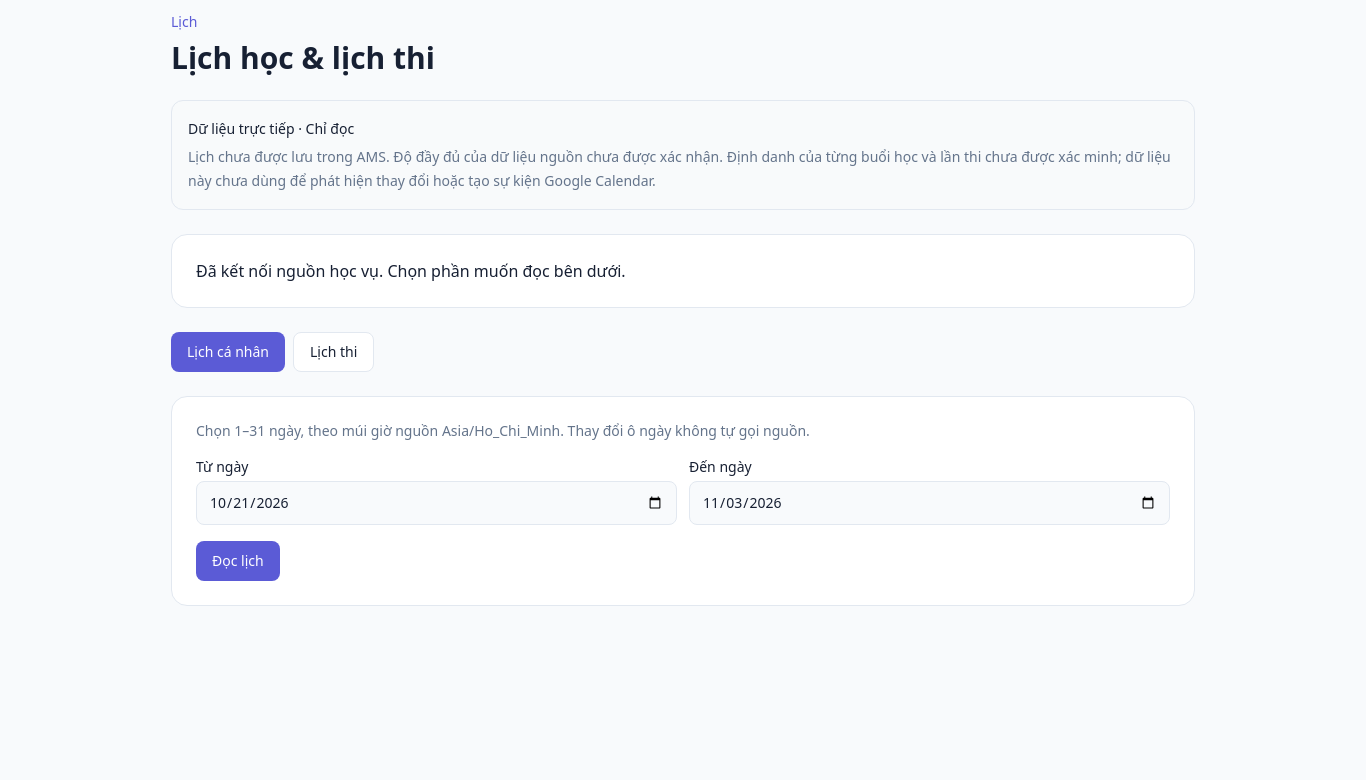
Test: Live read-only schedule › validates 31 days and waits for manual read; preserves duplicates, nulls and UNKNOWN kind
Expected: the text "Đã kết nối nguồn học vụ. Chọn phần muốn đọc bên dưới." is shown, [196,260,626,282]
Step 1. Type "2026-10-01" into the date field labelled "Từ ngày" → (436, 503), box [196,481,677,525]
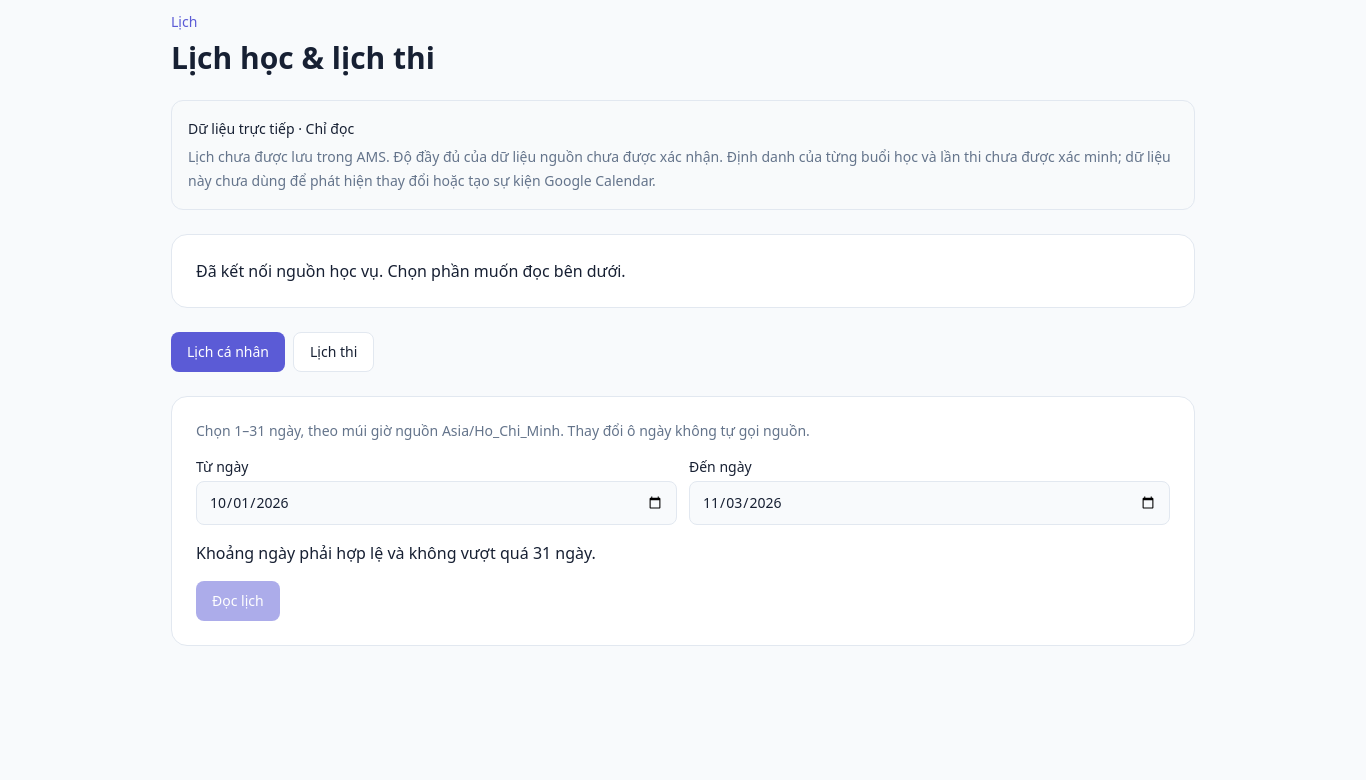
Step 2. Type "2026-10-31" into the date field labelled "Đến ngày" → (930, 503), box [689,481,1170,525]
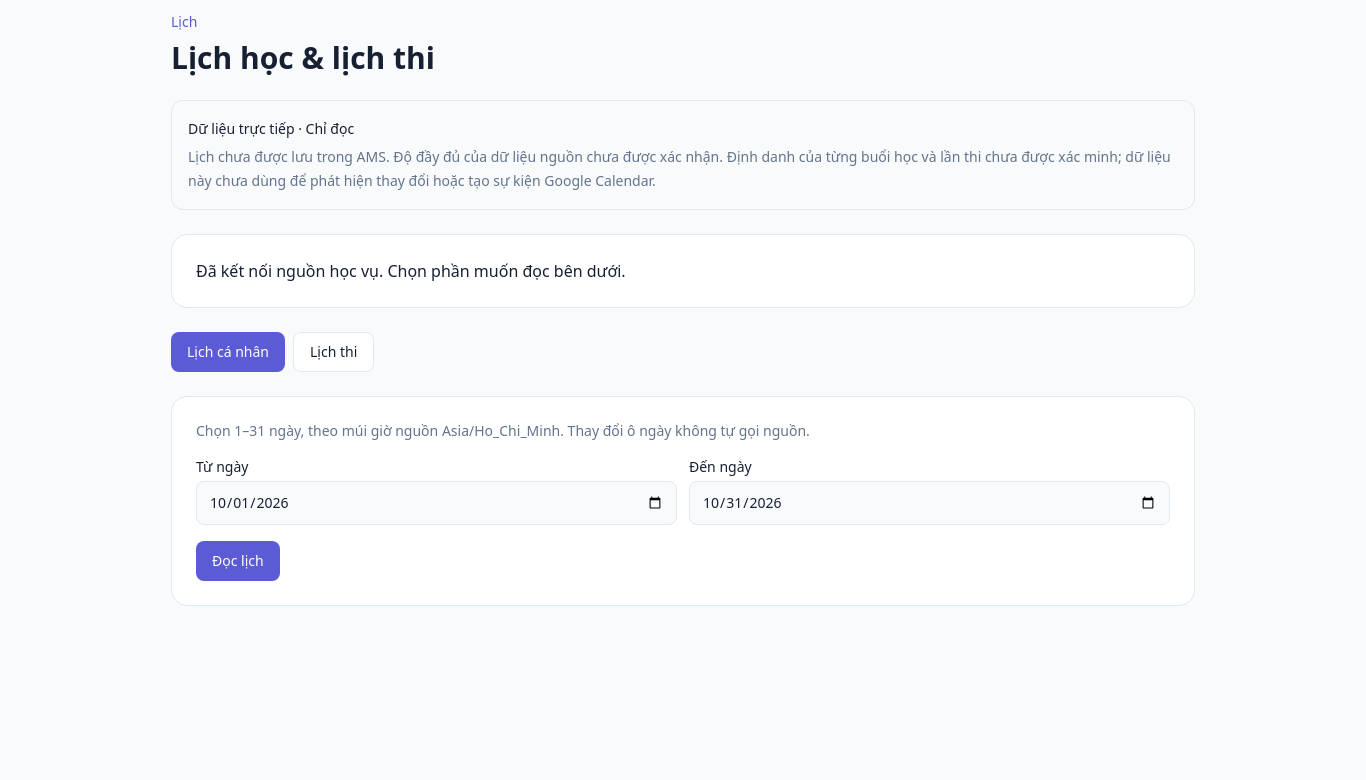
Expected: the button "Đọc lịch" is enabled, [196,541,280,581]
Step 3. Type "2026-11-01" into the date field labelled "Đến ngày" → (930, 503), box [689,481,1170,525]
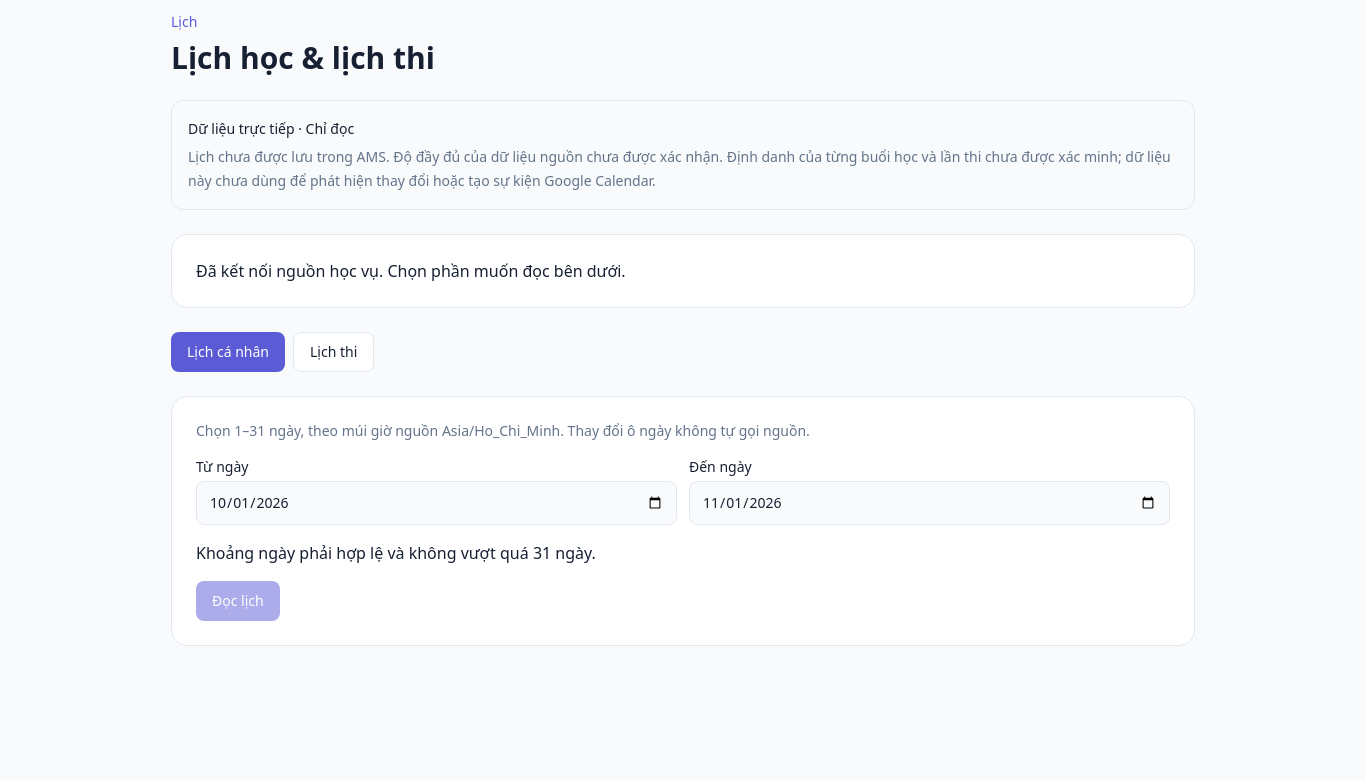
Expected: the button "Đọc lịch" is disabled, [196,581,280,621]
Step 4. Type "2026-10-14" into the date field labelled "Đến ngày" → (930, 503), box [689,481,1170,525]
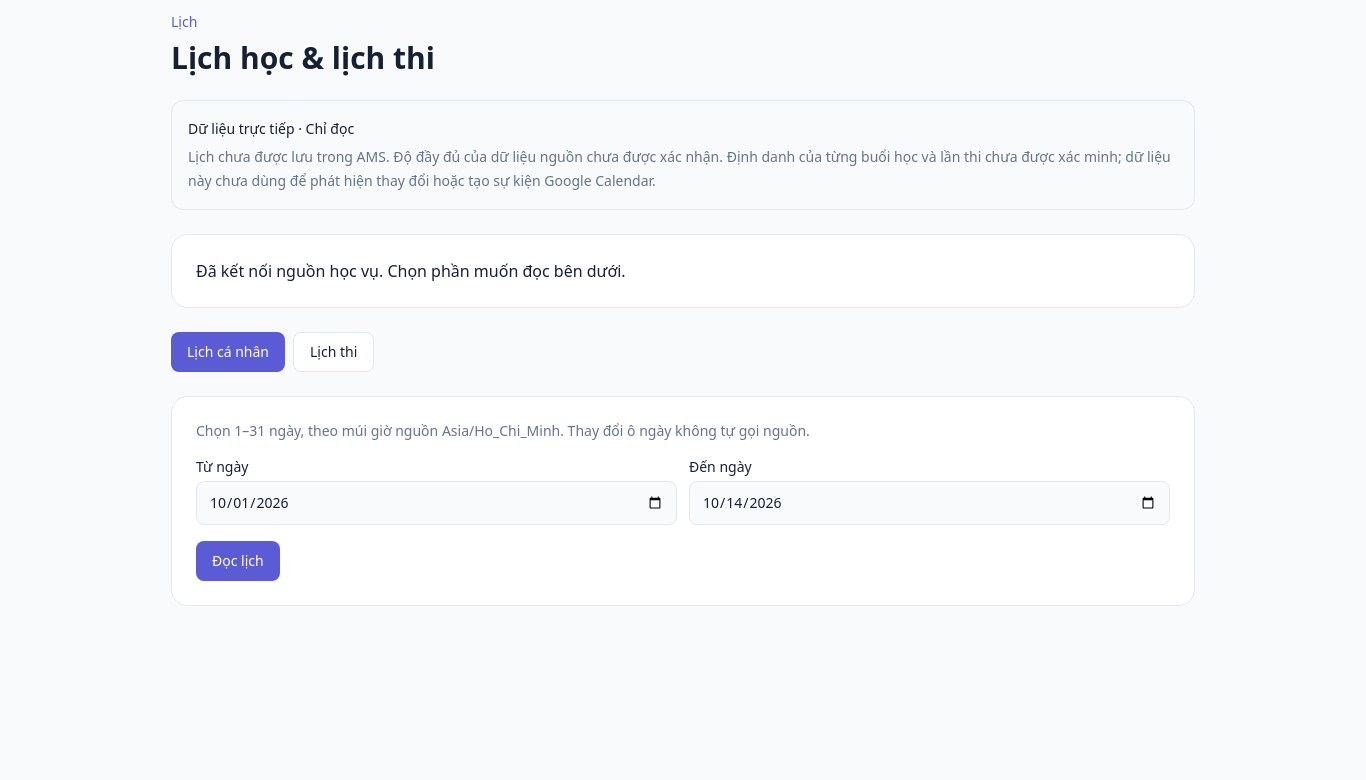
Step 5. Click the button "Đọc lịch" → (238, 561), box [196,541,280,581]
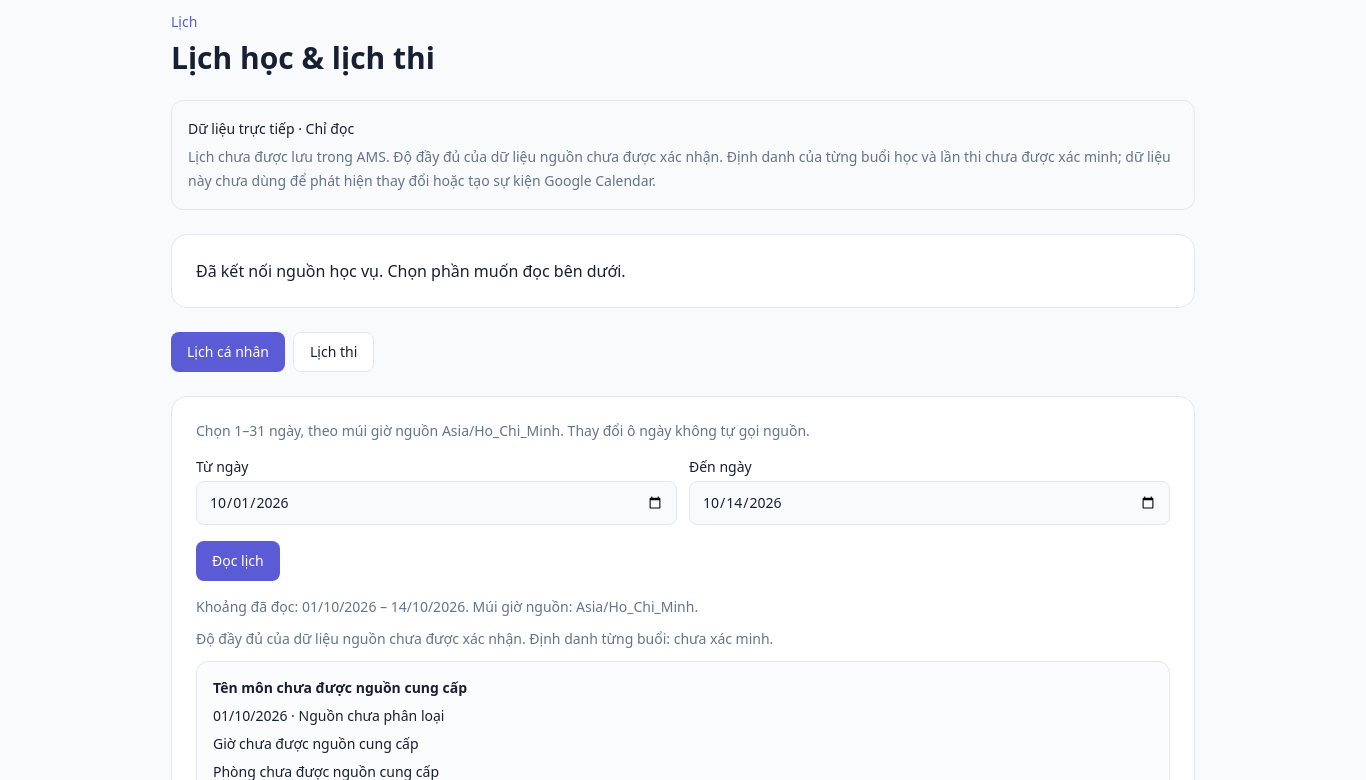
Expected: the text "Tên môn chưa được nguồn cung cấp" is shown 2 times
Expected: the text "01/10/2026 · Nguồn chưa phân loại" is shown 2 times
Expected: the text "Giờ chưa được nguồn cung cấp" is shown 2 times
